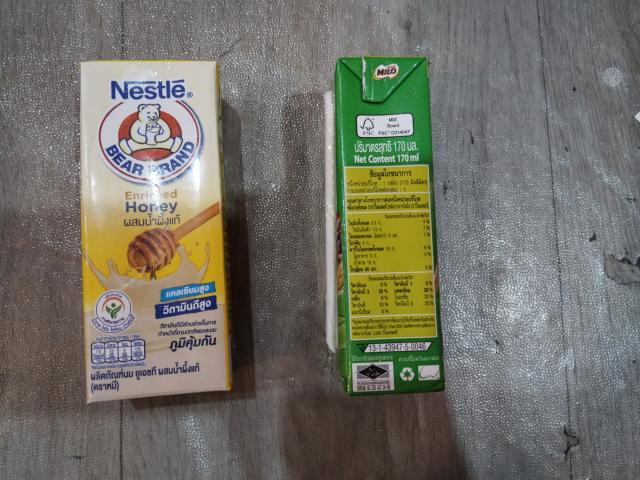drink_box: (68, 53, 242, 409), (316, 51, 467, 412)
